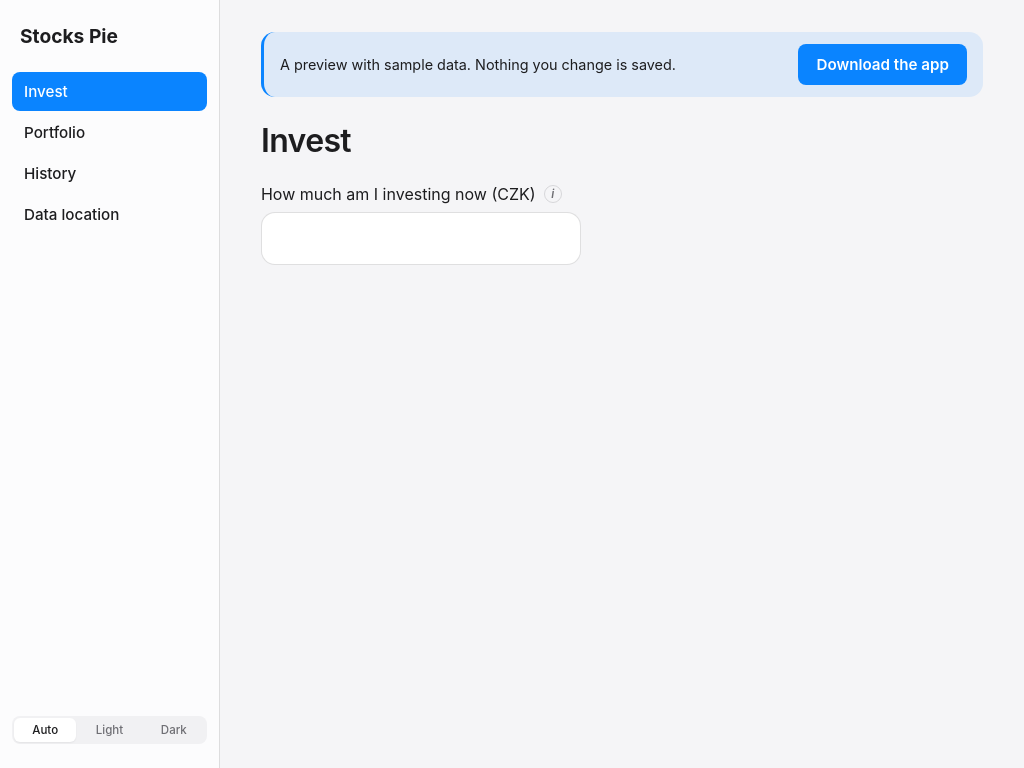
Test: App › dismisses the delete confirmation on Escape
In the number field labelled "How much am I investing now (CZK)": (421, 239) x1=261 y1=212 x2=581 y2=265, type "100000"
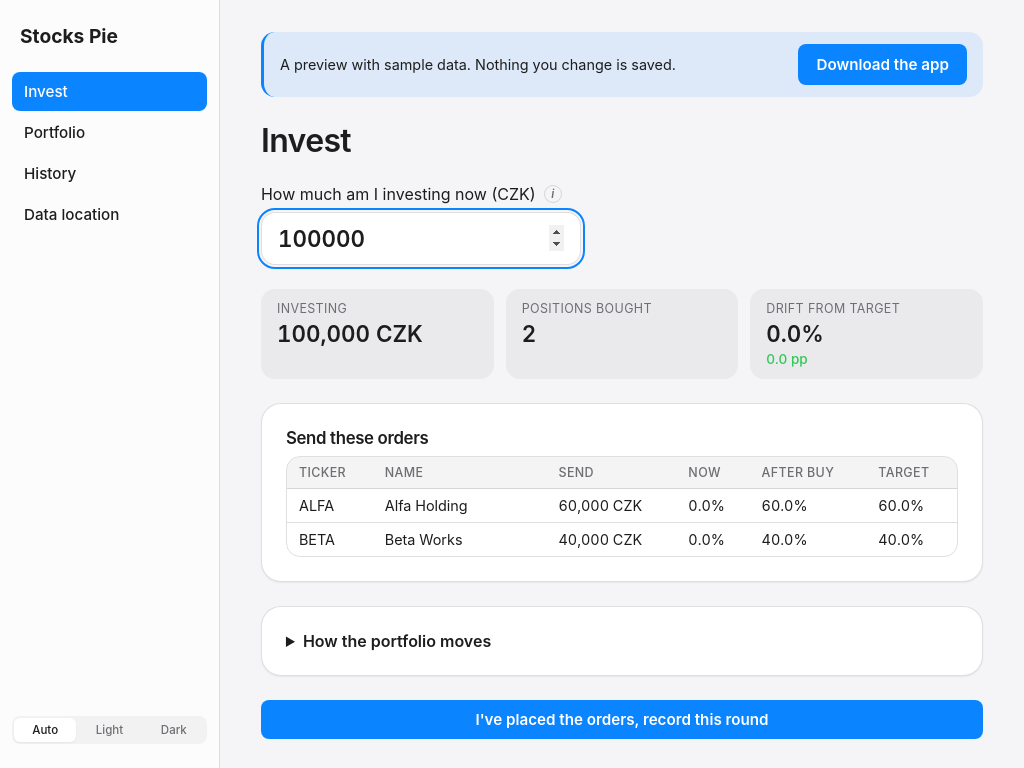
Click the button "I've placed the orders, record this round": (622, 720) x1=261 y1=700 x2=983 y2=739
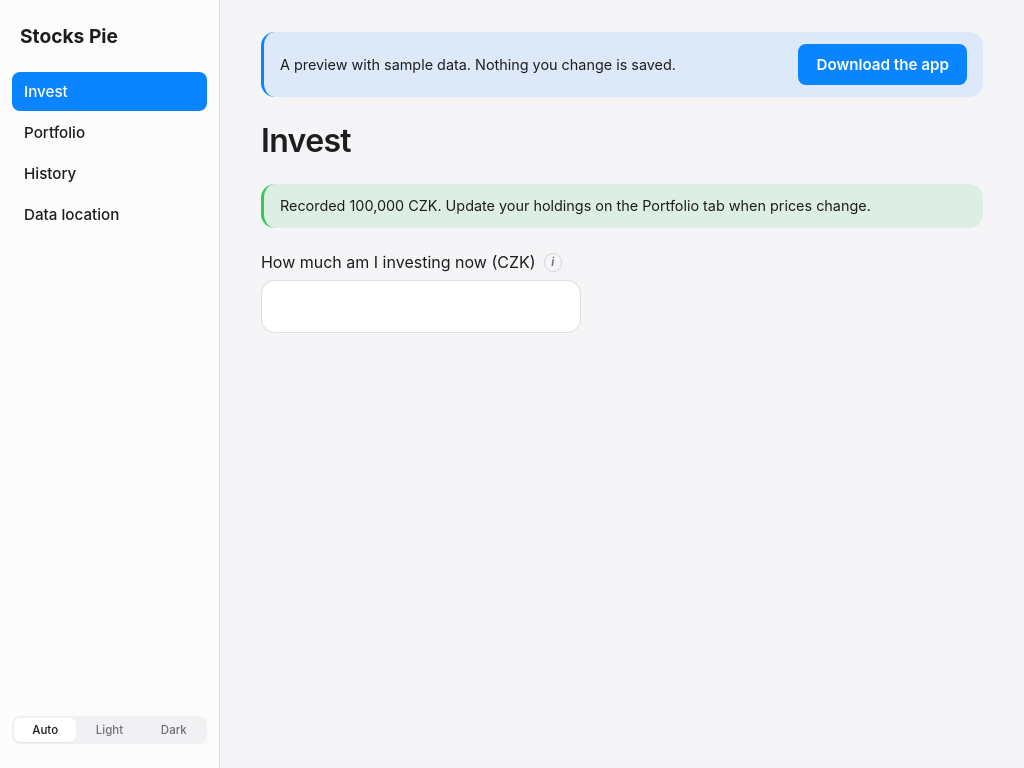
Click the button "History": (110, 174) x1=12 y1=154 x2=207 y2=193
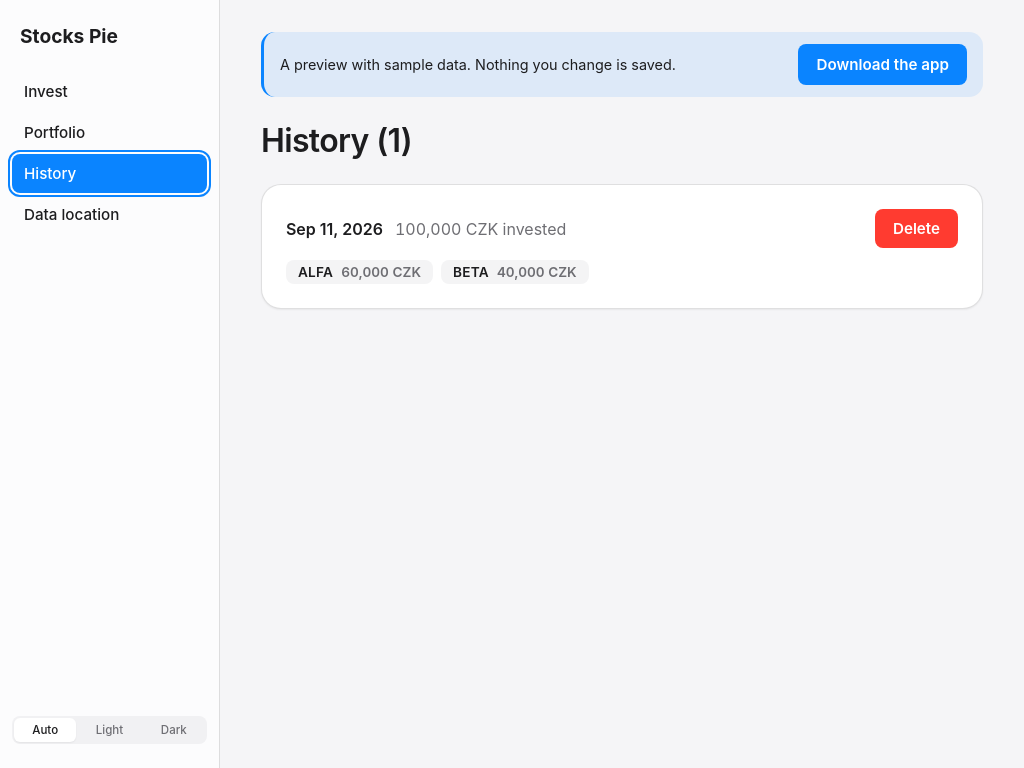
Click the button "Delete": (916, 229) x1=875 y1=209 x2=958 y2=248
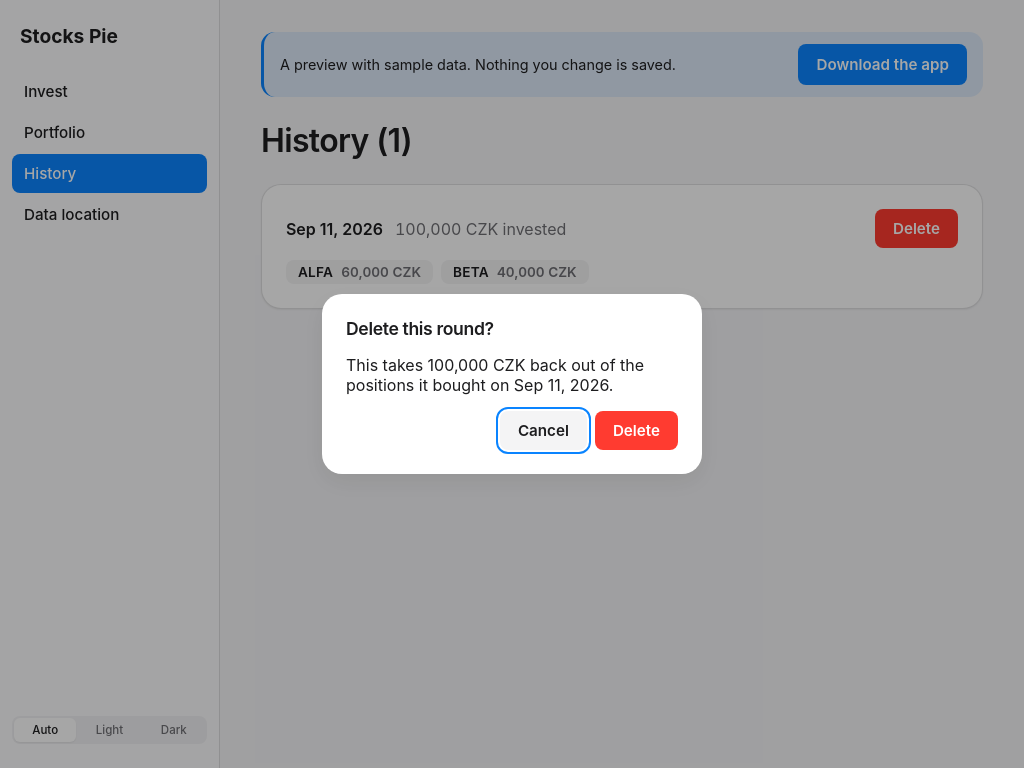
Result: the dialog is shown at x1=322 y1=294 x2=702 y2=474
Press Escape
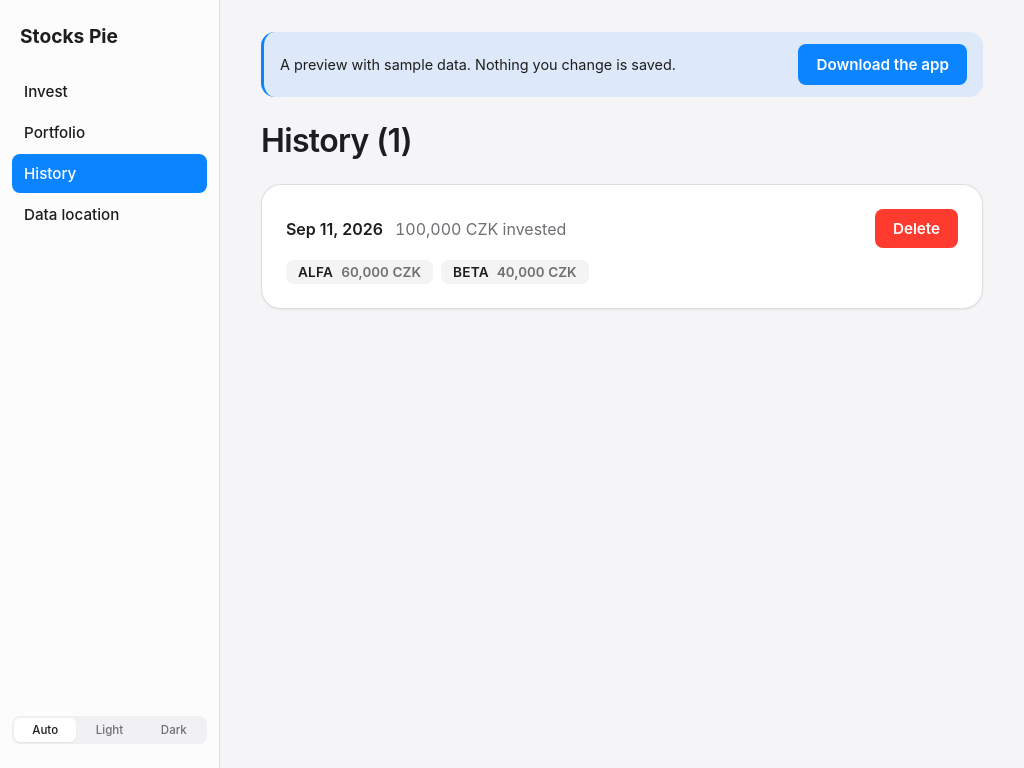
Result: the heading "History (1)" is shown at x1=261 y1=121 x2=412 y2=160
Result: the dialog is gone
